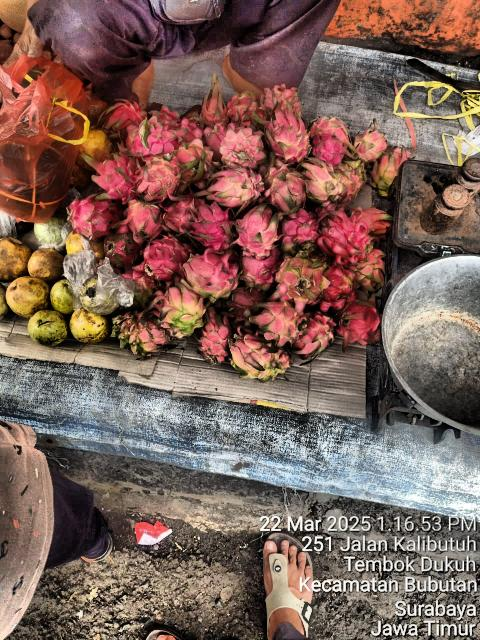buah-naga-belum-matang: (226, 330, 286, 382), (154, 283, 206, 335), (278, 251, 322, 311), (252, 300, 308, 346), (260, 164, 312, 212), (200, 169, 266, 205), (112, 314, 170, 354), (264, 116, 314, 162), (180, 254, 230, 300), (237, 204, 276, 256), (129, 162, 185, 198), (215, 128, 267, 166), (306, 158, 346, 206), (302, 312, 334, 364), (124, 200, 162, 240), (378, 146, 406, 198), (198, 80, 230, 124), (176, 144, 213, 178), (357, 250, 384, 294), (352, 126, 382, 164), (338, 162, 366, 200), (228, 91, 262, 121), (261, 85, 297, 108)
buah-naga-matang: (84, 154, 140, 198), (321, 213, 367, 263), (186, 203, 236, 247), (134, 238, 188, 278), (278, 212, 322, 258), (130, 122, 184, 158), (66, 198, 118, 234), (344, 300, 380, 346), (313, 116, 347, 164), (320, 268, 356, 308), (200, 314, 230, 362), (165, 197, 197, 236), (103, 237, 143, 265), (224, 292, 260, 320)
